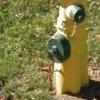Hydrant: (40, 1, 94, 99)
